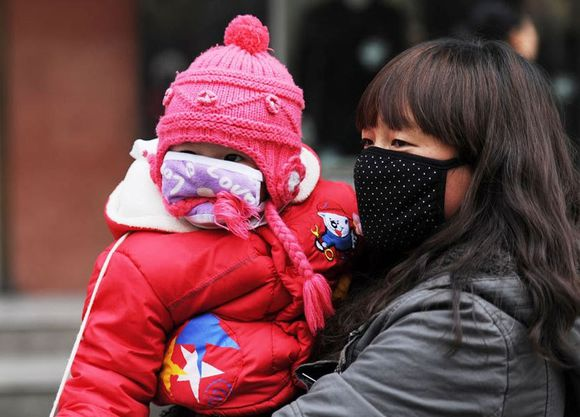face_mask: (359, 93, 477, 225), (167, 115, 266, 226)
